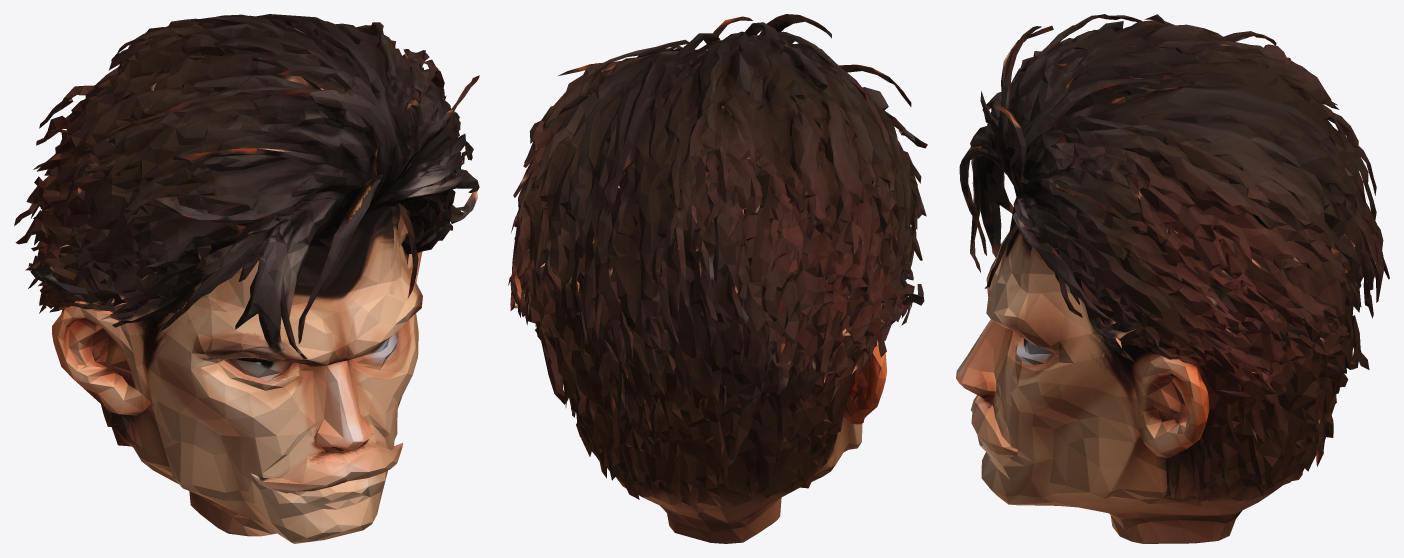
File: traveler_head_side_tokubei_straight_neck_v2_00001_.glb
The picture shows the model from 3 angles, left to right: view 1: azimuth 30°, elevation 25°; view 2: azimuth 150°, elevation 25°; view 3: azimuth 270°, elevation 25°; orthographic projection. The views are drawn at different scales.
Parts seen in each view (by area): view 1: temp_mesh.ply; view 2: temp_mesh.ply; view 3: temp_mesh.ply.
Part boxes in pixels (x1,y1,x2,y2): temp_mesh.ply: [14, 14, 479, 543]; temp_mesh.ply: [508, 14, 927, 543]; temp_mesh.ply: [956, 14, 1389, 543].
Size of the model in its own units: 1.77 by 1.98 by 1.58.
1 material, 1 textured.
